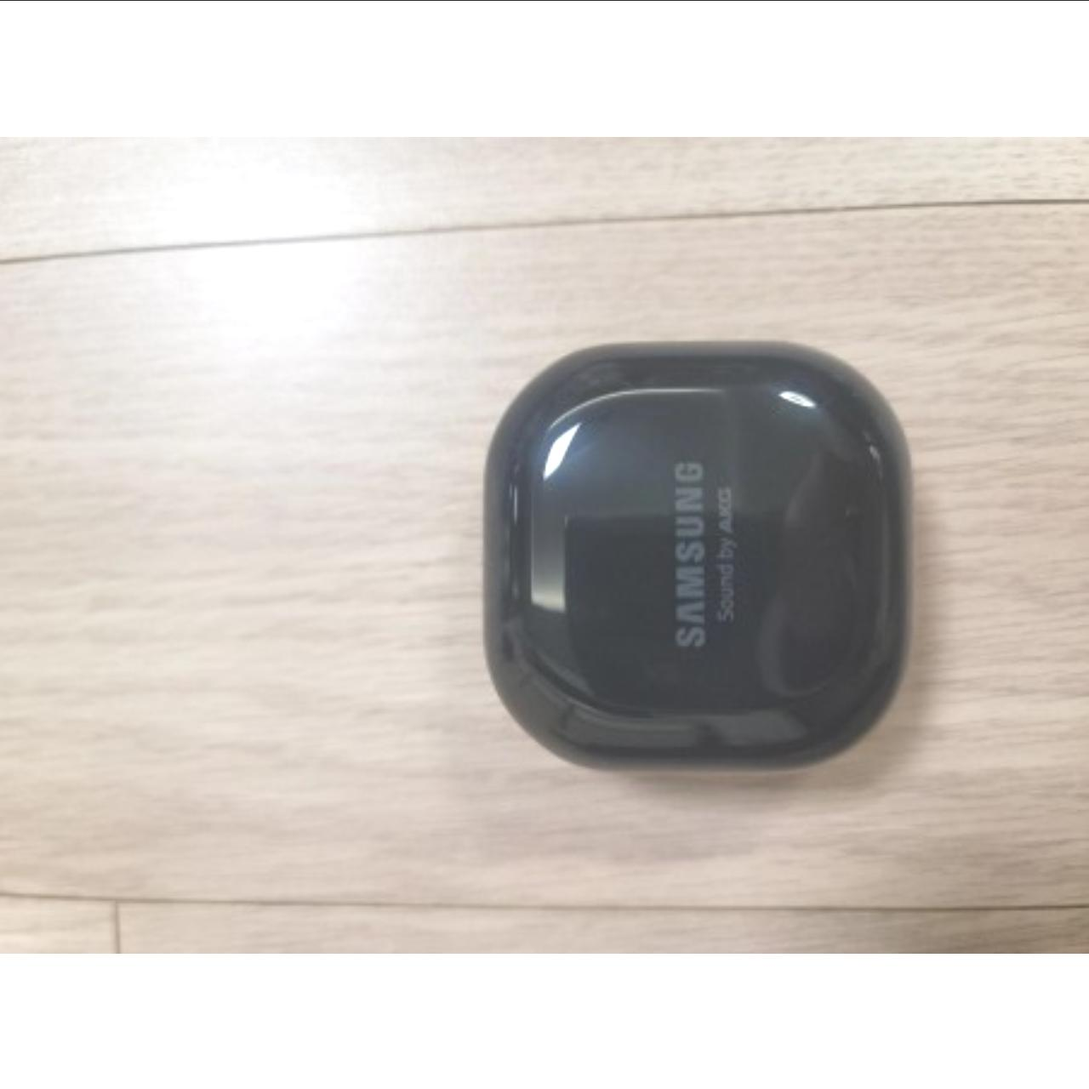Buds: (479, 334, 918, 774)
